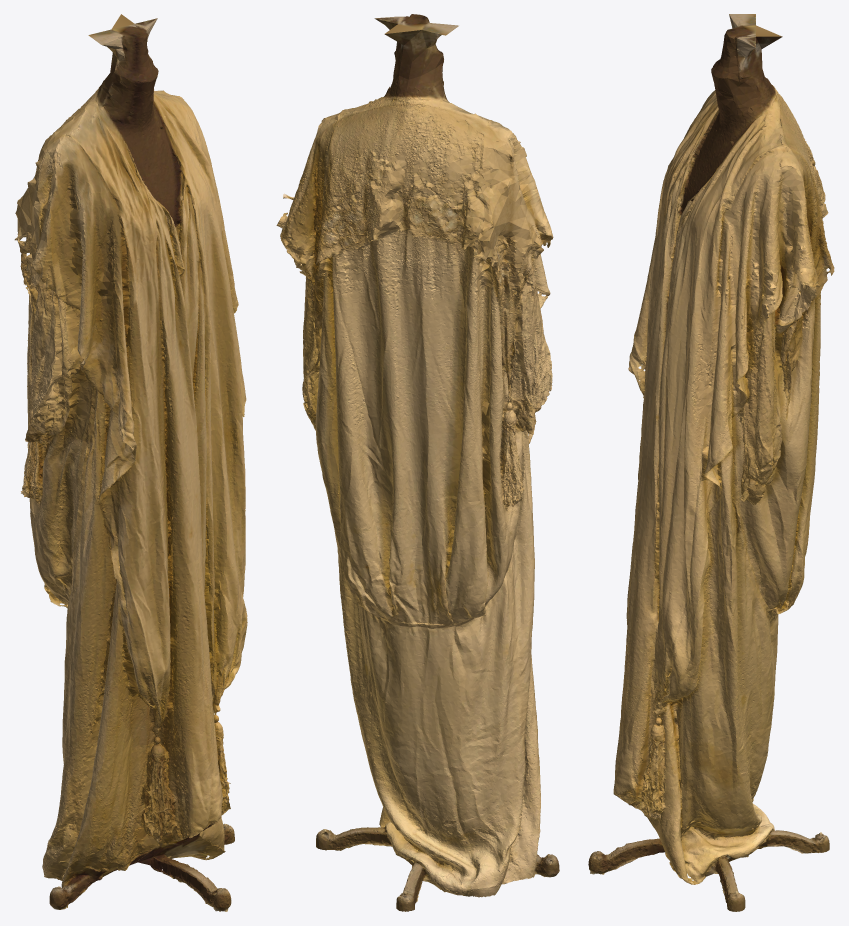
File: rb-2025-528-detail.glb
The picture shows the model from 3 angles, left to right: view 1: azimuth 30°, elevation 25°; view 2: azimuth 150°, elevation 25°; view 3: azimuth 270°, elevation 25°; orthographic projection. The views are drawn at different scales.
Visible parts, largest first — view 1: rb_display; view 2: rb_display; view 3: rb_display.
Boxes of the visible parts, bbox=[...] form: rb_display: bbox=[14, 14, 247, 911]; rb_display: bbox=[276, 14, 559, 911]; rb_display: bbox=[588, 14, 834, 911].
Size of the model in its own units: 7.04 by 25.28 by 6.77.
1 material, 1 textured.
